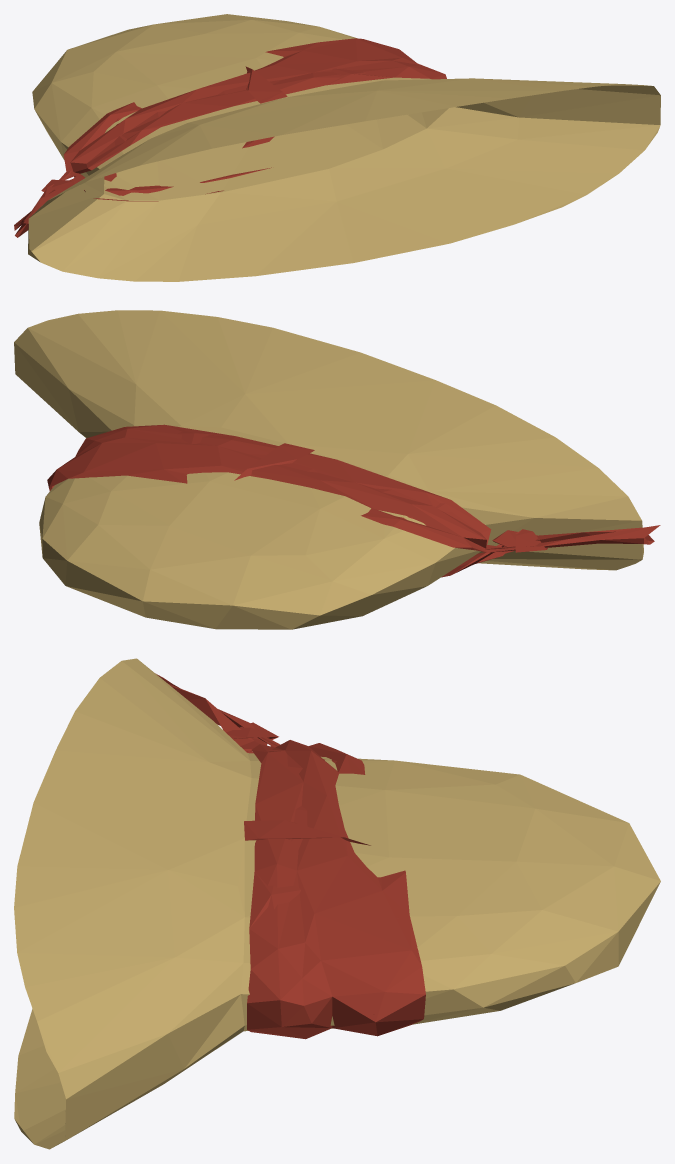
The model's file is Hand_asset_Hats.fbx.
3 renders of one model, top to bottom at view 1: azimuth 30°, elevation 25°; view 2: azimuth 150°, elevation 25°; view 3: azimuth 270°, elevation 25°, orthographic. The views are drawn at different scales.
Parts seen in each view (by area): view 1: Female_hat; view 2: Female_hat; view 3: Female_hat.
Boxes of the visible parts, x1,y1,x2,y2 form: Female_hat: [14, 14, 660, 281]; Female_hat: [14, 310, 660, 629]; Female_hat: [14, 658, 660, 1149].
Bounding box in the file's own units: 63.62 × 13.73 × 40.14.
